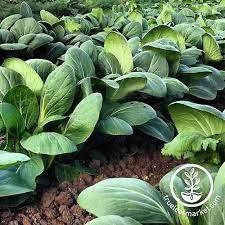Healthy-Pechay: (2, 4, 225, 145), (83, 179, 168, 225)
